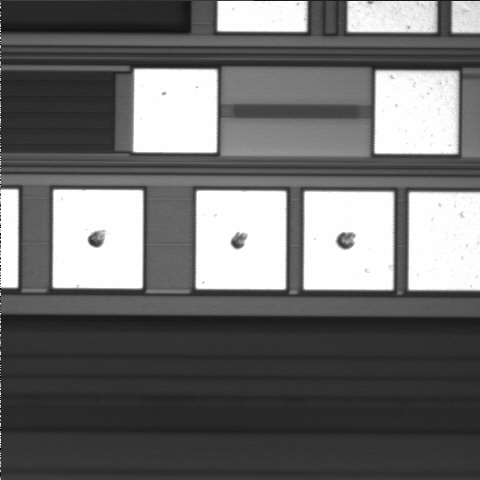pad: (304, 191, 394, 290), (53, 190, 143, 288), (196, 191, 286, 289), (133, 69, 217, 153), (375, 71, 458, 154)
